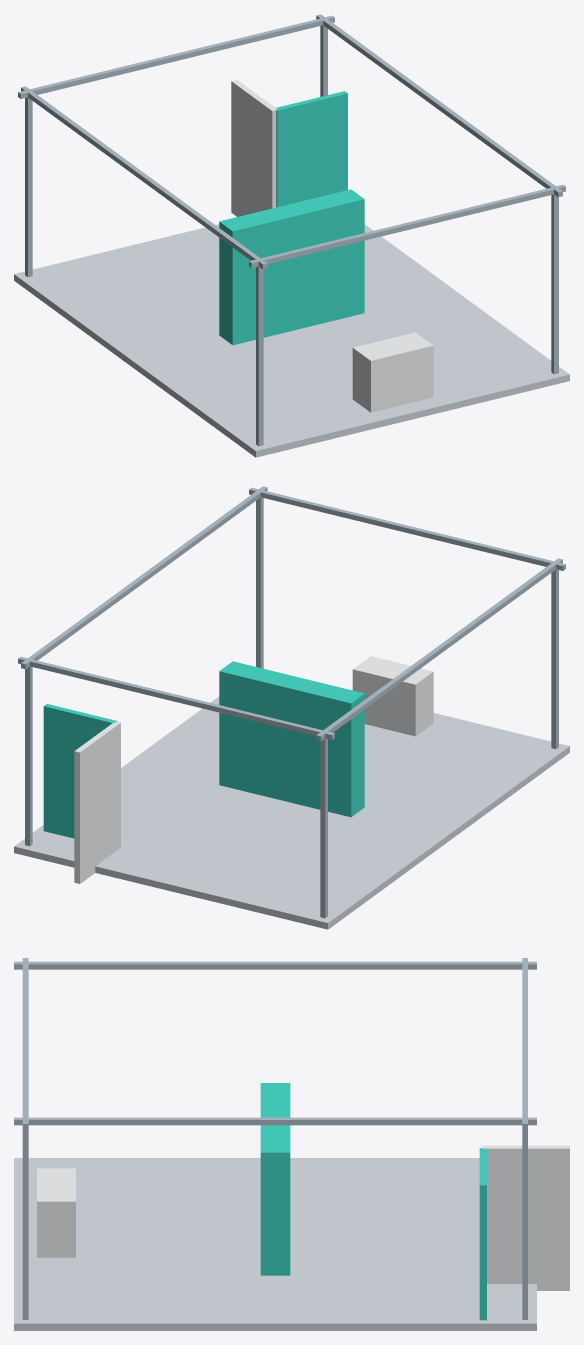
3 renders of one model, top to bottom at view 1: azimuth 30°, elevation 25°; view 2: azimuth 150°, elevation 25°; view 3: azimuth 270°, elevation 25°, orthographic. The views are drawn at different scales.
Visible parts, largest first — view 1: Exhibition Booth Concept; view 2: Exhibition Booth Concept; view 3: Exhibition Booth Concept.
Boxes of the visible parts, x1=… form: Exhibition Booth Concept: x1=14, y1=14, x2=569, y2=457; Exhibition Booth Concept: x1=14, y1=486, x2=569, y2=929; Exhibition Booth Concept: x1=14, y1=958, x2=569, y2=1330.
Size of the model in its own units: 6 by 3.49 by 8.51.
